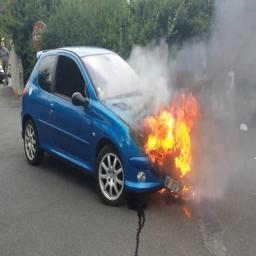fire: (142, 94, 198, 178)
